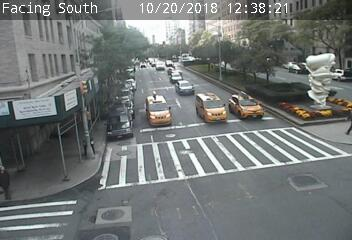car: (195, 93, 226, 123), (229, 95, 263, 119), (146, 97, 172, 125), (175, 81, 194, 94), (170, 72, 182, 81)
